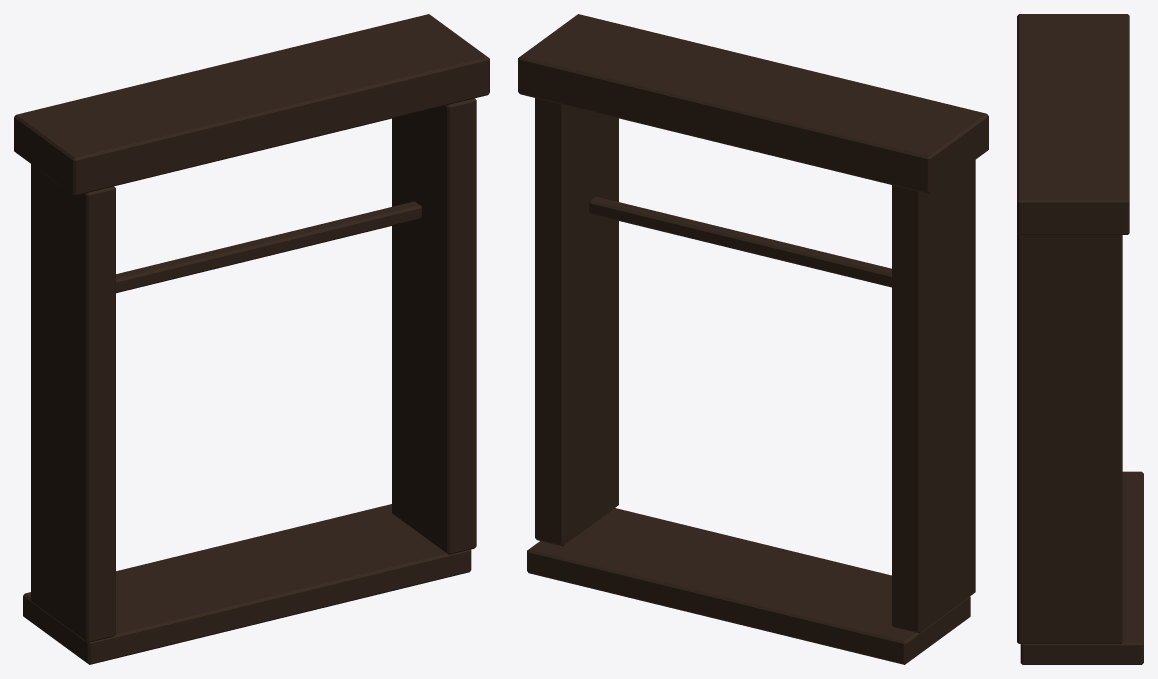
Rendered from frame_shop_w8.fbx.
The picture shows the model from 3 angles, left to right: view 1: azimuth 30°, elevation 25°; view 2: azimuth 150°, elevation 25°; view 3: azimuth 270°, elevation 25°; orthographic projection. The views are drawn at different scales.
Visible parts, largest first — view 1: frame_shop_w8; view 2: frame_shop_w8; view 3: frame_shop_w8.
Boxes of the visible parts, x1=… form: frame_shop_w8: x1=14, y1=14, x2=489, y2=664; frame_shop_w8: x1=518, y1=14, x2=988, y2=664; frame_shop_w8: x1=1017, y1=14, x2=1143, y2=664.
Size of the model in its own units: 630 by 740 by 180.
